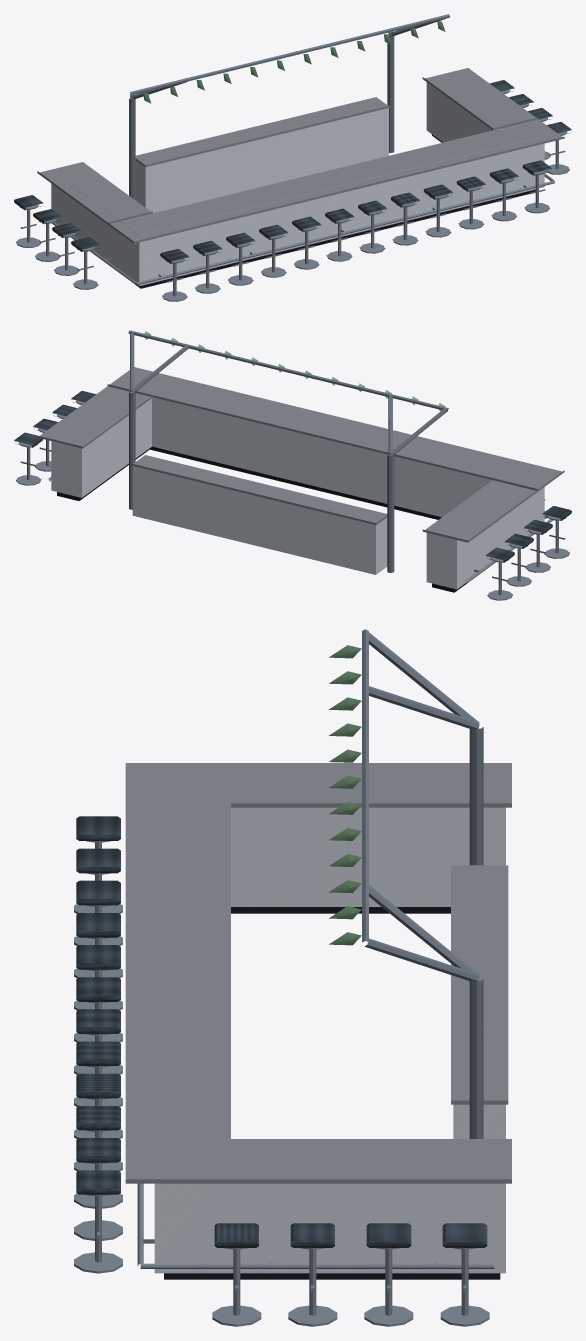
The picture shows the model from 3 angles, top to bottom: view 1: azimuth 30°, elevation 25°; view 2: azimuth 150°, elevation 25°; view 3: azimuth 270°, elevation 25°; orthographic projection. The views are drawn at different scales.
Visible parts, largest first — view 1: Counter_Body, Counter_Top_Slate, Back_Bar, Stool_Frame, Stool_Cushions, Back_Bar_Top, Tree_Forks, Foot_Rail, Counter_Plinth, Canopy_Leaves; view 2: Counter_Body, Counter_Top_Slate, Back_Bar, Tree_Forks, Back_Bar_Top, Stool_Frame, Stool_Cushions, Counter_Plinth; view 3: Counter_Top_Slate, Counter_Body, Stool_Cushions, Back_Bar_Top, Stool_Frame, Tree_Forks, Counter_Plinth, Canopy_Leaves, Foot_Rail, Back_Bar.
Boxes of the visible parts, x1,y1,x2,y2 form: Counter_Body: [51, 80, 544, 286]; Counter_Top_Slate: [37, 68, 564, 243]; Back_Bar: [135, 108, 388, 213]; Stool_Frame: [16, 90, 569, 301]; Stool_Cushions: [14, 80, 571, 263]; Back_Bar_Top: [135, 97, 390, 167]; Tree_Forks: [129, 14, 449, 199]; Foot_Rail: [52, 173, 554, 284]; Counter_Plinth: [135, 134, 535, 288]; Canopy_Leaves: [143, 21, 445, 103]; Counter_Body: [51, 397, 544, 589]; Counter_Top_Slate: [37, 367, 564, 542]; Back_Bar: [132, 466, 387, 574]; Tree_Forks: [128, 330, 448, 572]; Back_Bar_Top: [131, 455, 387, 525]; Stool_Frame: [16, 400, 569, 600]; Stool_Cushions: [14, 391, 571, 562]; Counter_Plinth: [57, 446, 467, 592]; Counter_Top_Slate: [125, 763, 511, 1183]; Counter_Body: [154, 804, 505, 1273]; Stool_Cushions: [76, 816, 487, 1247]; Back_Bar_Top: [451, 865, 508, 1104]; Stool_Frame: [74, 841, 489, 1326]; Tree_Forks: [362, 629, 483, 1138]; Counter_Plinth: [164, 907, 500, 1279]; Canopy_Leaves: [328, 645, 361, 945]; Foot_Rail: [137, 1183, 494, 1268]; Back_Bar: [453, 1104, 505, 1138].
Size of what is drawn, in the model's own units: 9.74 by 2.84 by 3.74.
7 materials, 5 textured.
